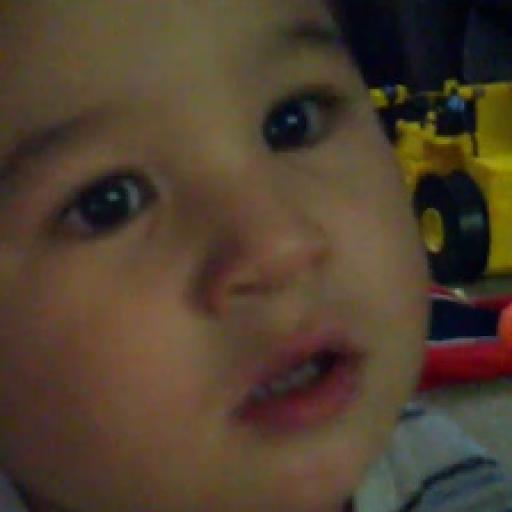Autism: (21, 18, 498, 512)
